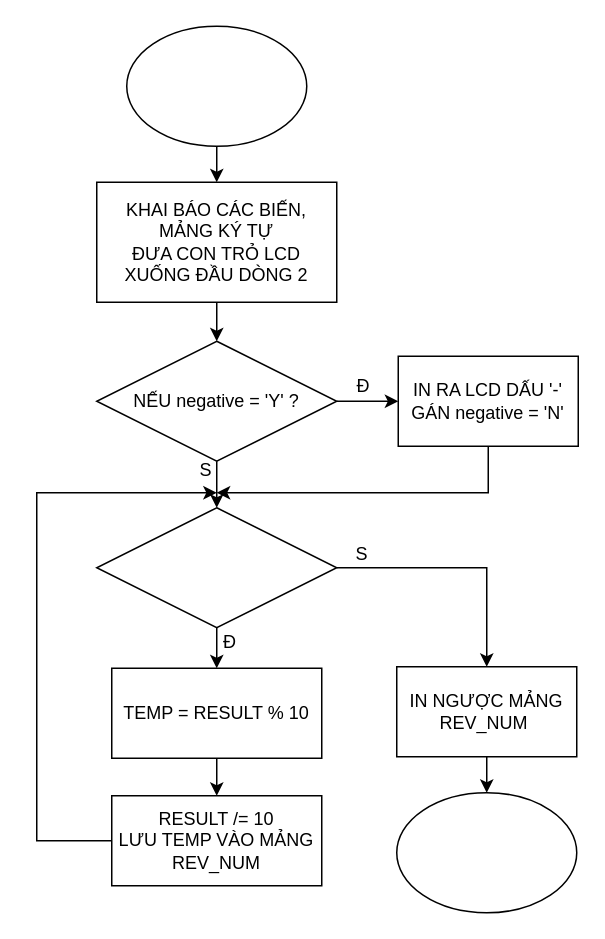
This 605x939 diagram has some shape labels left out. Here are the shapes that lost their labels. From the top down, the centre of each, then its label:
pixel 216 85: BẮT ĐẦU
pixel 216 567: RESULT > 0 ?
pixel 486 852: KẾT THÚC
